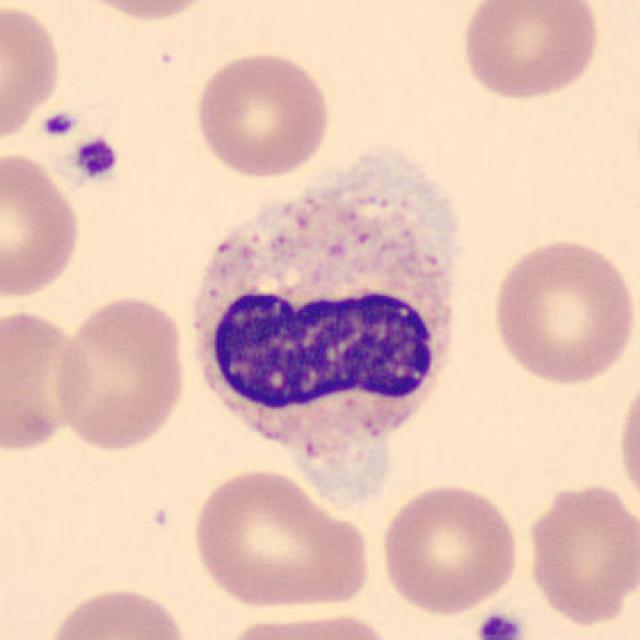Neutrophil: (180, 176, 471, 492)
Platelets: (69, 134, 123, 183), (475, 610, 526, 640), (37, 108, 80, 141)
RBC: (183, 466, 377, 614), (46, 293, 190, 457), (487, 234, 637, 388), (377, 480, 524, 617), (190, 46, 334, 182), (521, 478, 638, 628), (457, 0, 604, 104), (0, 303, 96, 455), (0, 146, 85, 301), (0, 0, 66, 146), (39, 582, 192, 640), (213, 608, 400, 640), (613, 365, 640, 515), (66, 0, 222, 25)
